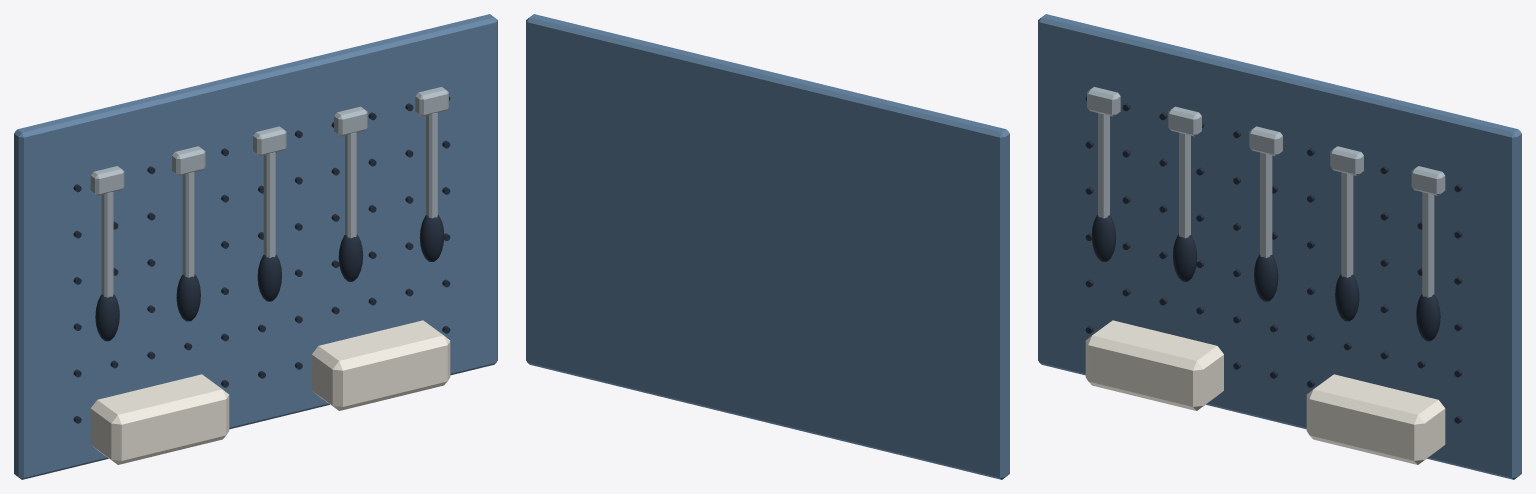
Rendered from logistics_07.glb.
3 renders of one model, left to right at view 1: azimuth 30°, elevation 25°; view 2: azimuth 150°, elevation 25°; view 3: azimuth 330°, elevation 25°, orthographic.
Visible parts, largest first — view 1: ToolBoard, PartsBin (×2), ToolShaft (×5), ToolGrip (×5), ToolHead (×5); view 2: ToolBoard; view 3: ToolBoard, PartsBin (×2), ToolShaft (×5), ToolGrip (×5), ToolHead (×5).
Part boxes in pixels (x1,y1,x2,y2): ToolBoard: (14, 14, 497, 479); PartsBin (×2): (90, 320, 450, 464); ToolShaft (×5): (101, 113, 437, 297); ToolGrip (×5): (95, 215, 444, 341); ToolHead (×5): (90, 87, 448, 195); ToolBoard: (526, 14, 1009, 479); ToolBoard: (1038, 14, 1521, 479); PartsBin (×2): (1085, 320, 1445, 464); ToolShaft (×5): (1098, 113, 1434, 297); ToolGrip (×5): (1091, 215, 1440, 341); ToolHead (×5): (1087, 87, 1445, 195).
Size of the model in its own units: 1.3 by 0.9 by 0.155.
